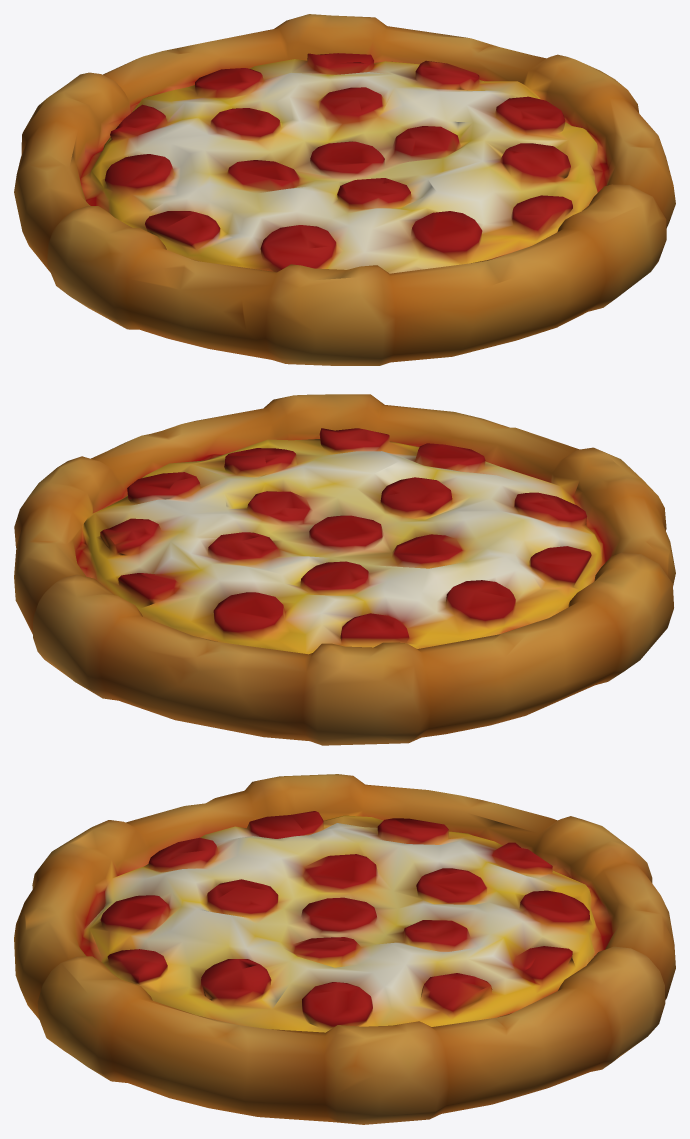
The model's file is meshy-pizza.glb.
The picture shows the model from 3 angles, top to bottom: view 1: azimuth 30°, elevation 25°; view 2: azimuth 150°, elevation 25°; view 3: azimuth 270°, elevation 25°; orthographic projection.
Visible parts, largest first — view 1: Mesh_0; view 2: Mesh_0; view 3: Mesh_0.
Part boxes in pixels (x1,y1,x2,y2): Mesh_0: (14,14,675,365); Mesh_0: (14,394,675,745); Mesh_0: (14,774,675,1124).
Bounding box in the file's own units: 1.9 × 0.2882 × 1.86.
